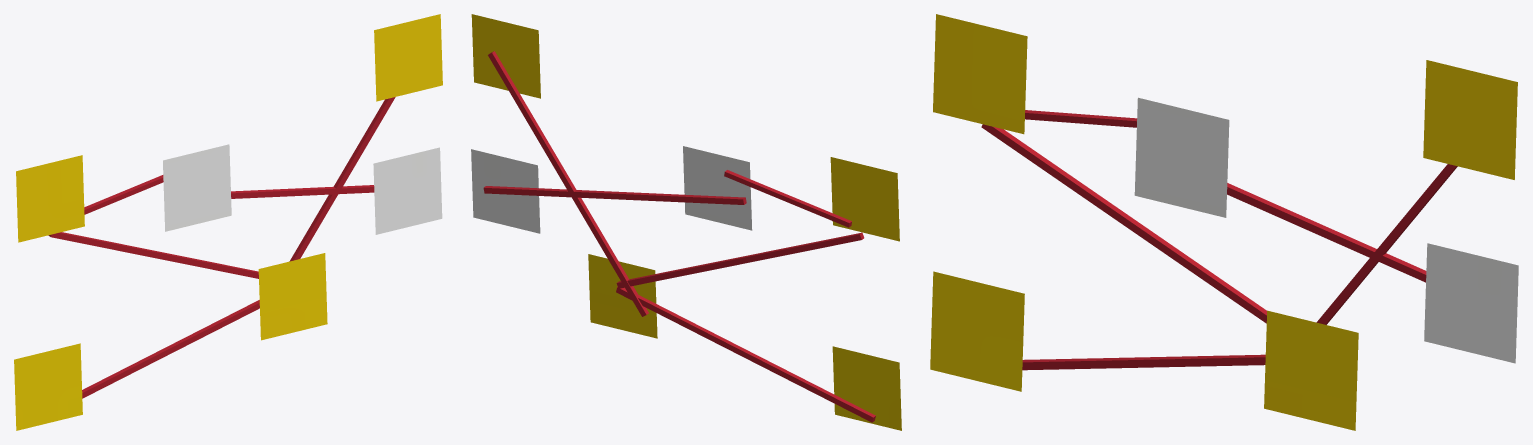
Rendered from evidence-board.gltf.
3 views of the same model, side by side, from view 1: azimuth 30°, elevation 25°; view 2: azimuth 150°, elevation 25°; view 3: azimuth 330°, elevation 25° (orthographic). The views are drawn at different scales.
Parts seen in each view (by area): view 1: String4; view 2: String4; view 3: String4.
Boxes of the visible parts, x1,y1,x2,y2 form: String4: [14, 14, 442, 430]; String4: [471, 14, 901, 430]; String4: [930, 14, 1518, 430].
Bounding box in the file's own units: 1.02 × 0.7113 × 0.0226.
Materials: 1 (1 with a texture image).
